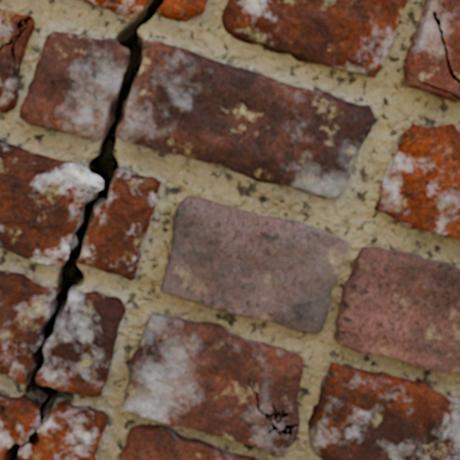brick: (122, 313, 302, 455), (162, 197, 347, 333), (335, 247, 459, 373), (308, 363, 459, 459), (222, 0, 406, 76), (375, 124, 459, 237), (403, 0, 459, 99), (120, 425, 255, 459), (0, 20, 33, 111), (0, 10, 24, 44)
broken_brick: (117, 39, 375, 200), (0, 139, 101, 266), (18, 31, 127, 142), (37, 289, 125, 397), (81, 166, 161, 281), (0, 269, 55, 385), (20, 404, 109, 459), (0, 392, 38, 459), (79, 0, 146, 20), (157, 0, 208, 22)
crack: (2, 0, 165, 459), (247, 376, 299, 438), (432, 9, 459, 83), (0, 15, 32, 75), (176, 150, 234, 171), (416, 79, 459, 99), (264, 178, 284, 184)
